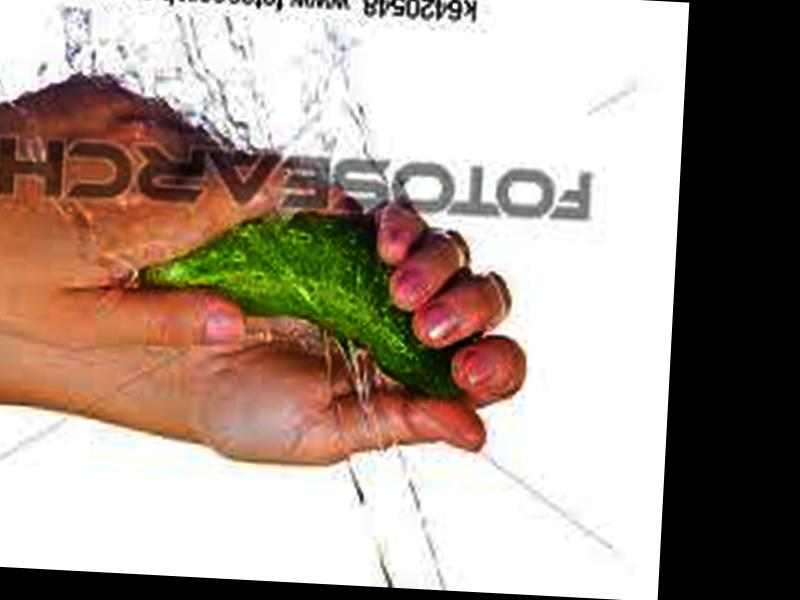Cucumber: (125, 198, 473, 400)
